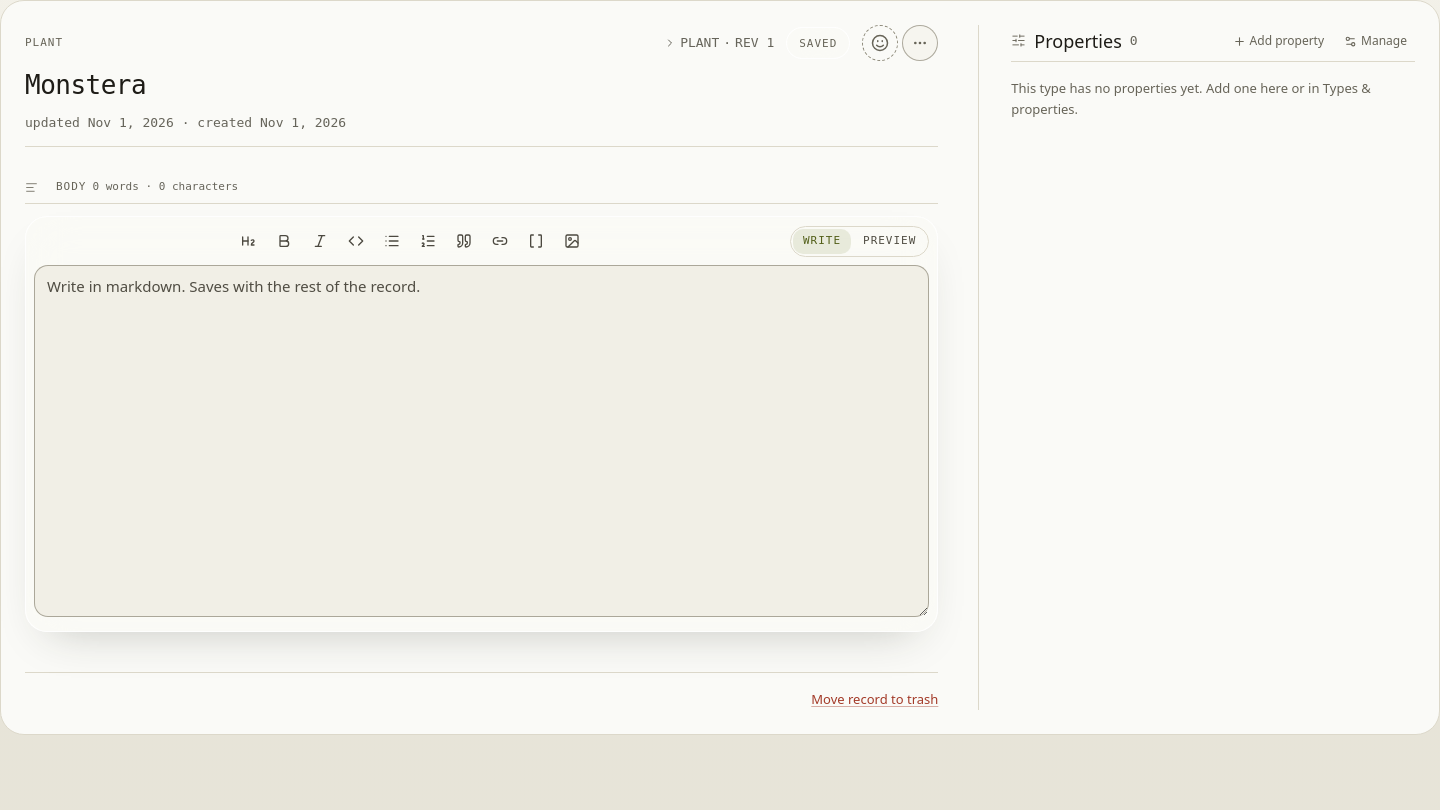
Scenario: ObjectPanel rename repair › asks before a title change strands mentions, then rewrites each source
Replace the text in the field named "title" with "Monstera deliciosa" at (482, 85), box [25, 65, 938, 105]
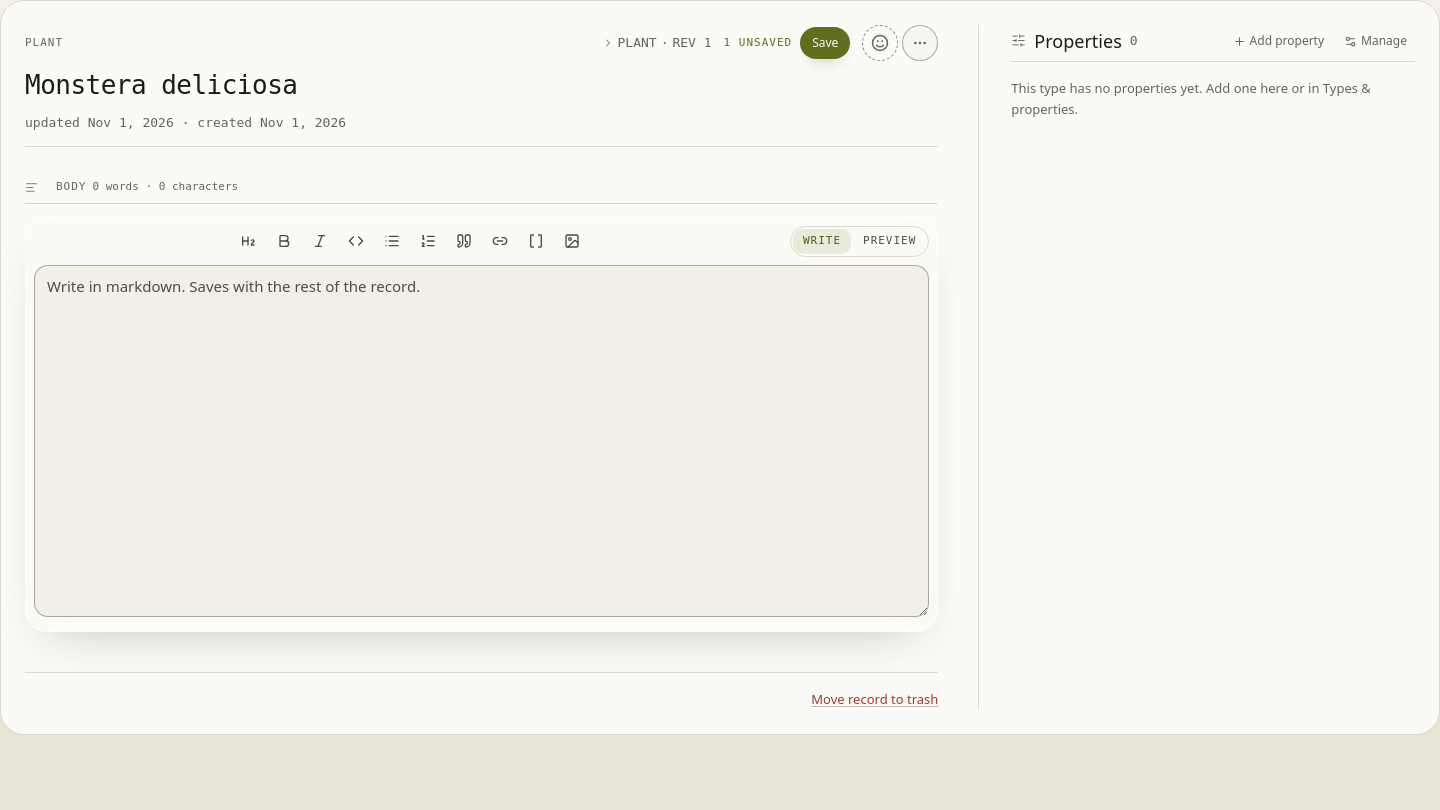
Click the button "Save" at (825, 43), box [800, 27, 850, 59]
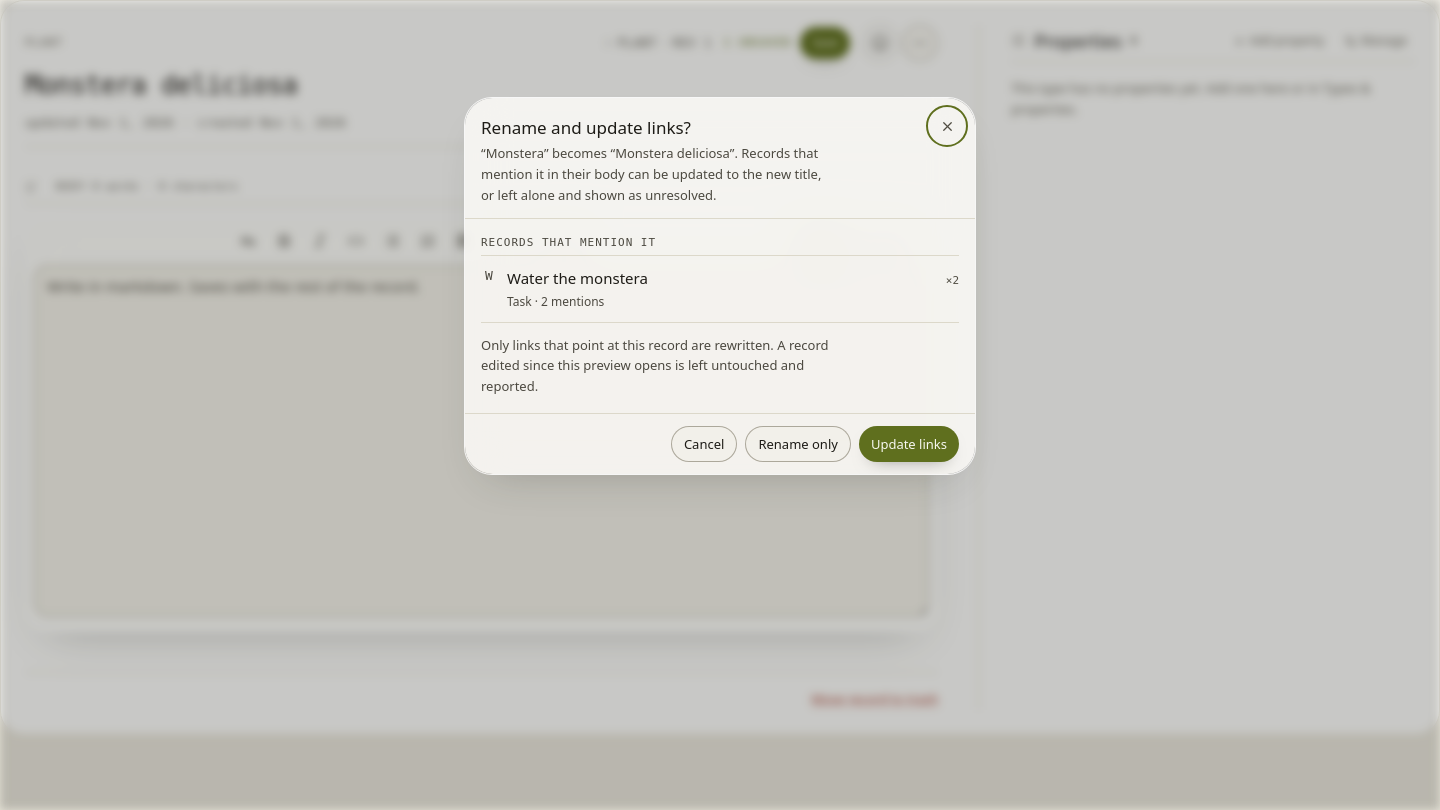
Check: the heading "Rename and update links?" is shown, box [481, 116, 691, 139]
Check: the button "Update links" is enabled
Click the button "Update links" at (909, 444), box [859, 426, 959, 462]
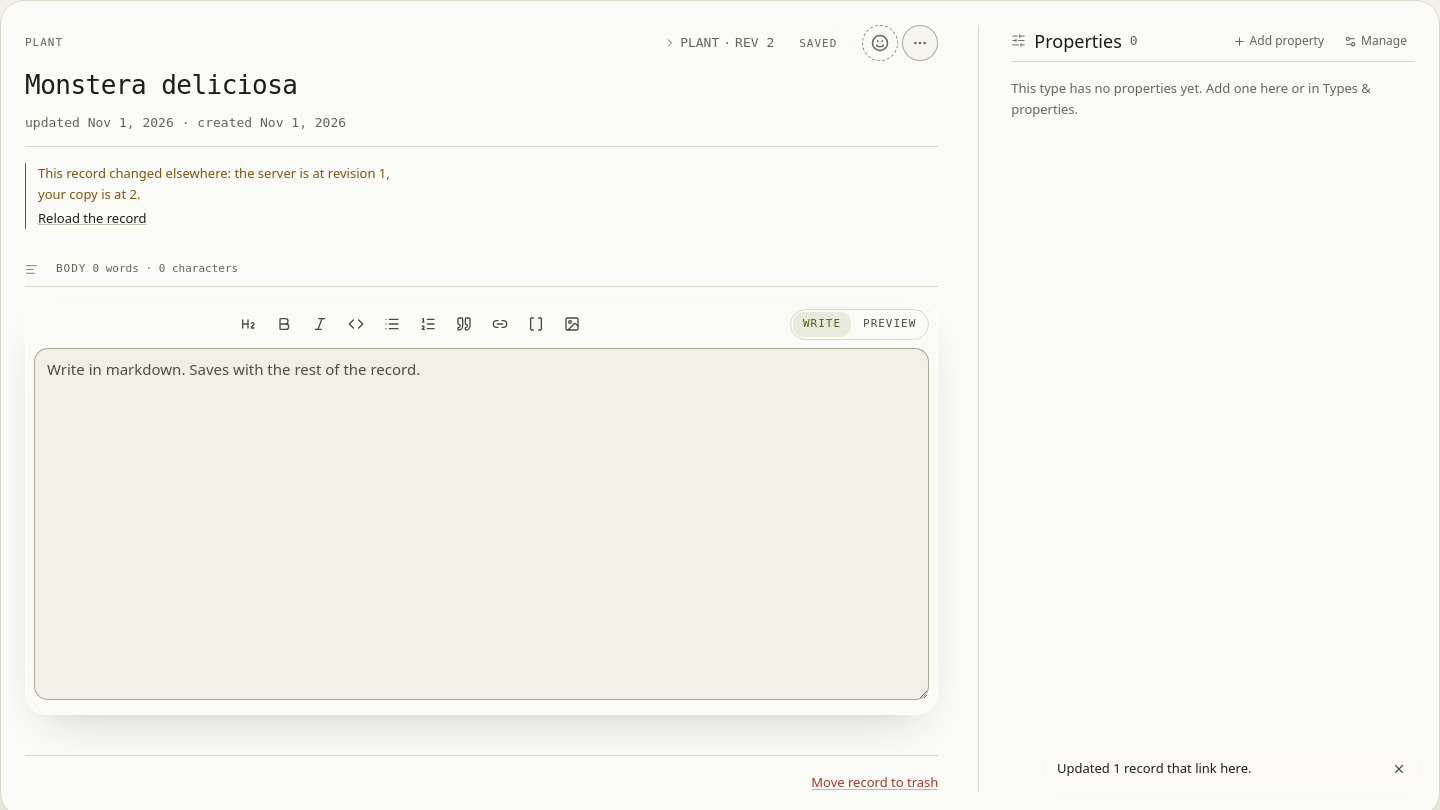
Check: the text "Updated 1 record that link here." is shown, box [1057, 759, 1252, 777]
